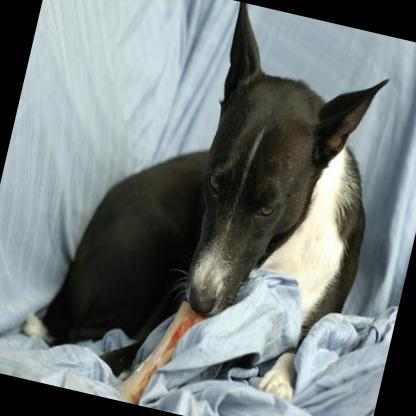basenji: (15, 0, 410, 416)
